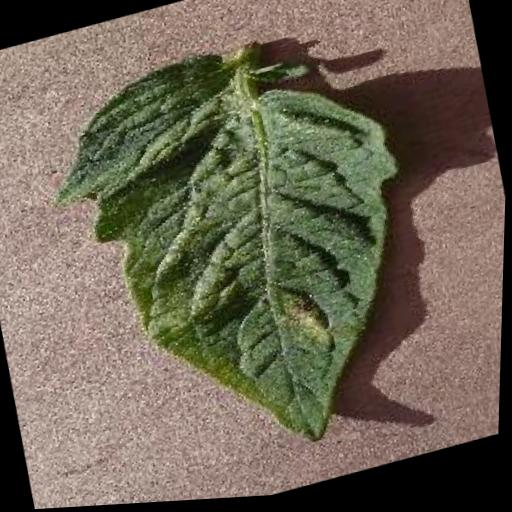Spider Mites: (33, 7, 453, 500)
